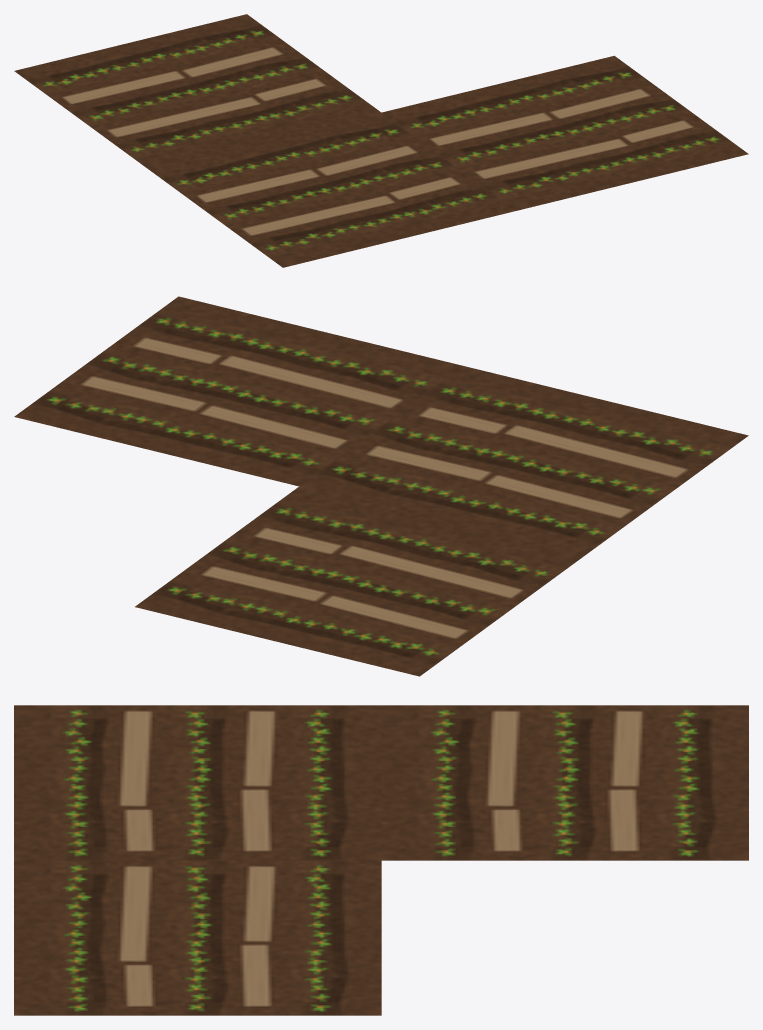
Rendered from example-L_LOD2.glb.
3 views of the same model, one above another, from view 1: azimuth 30°, elevation 25°; view 2: azimuth 150°, elevation 25°; view 3: azimuth 270°, elevation 25° (orthographic). The views are drawn at different scales.
Visible parts, largest first — view 1: parcelle_000_LOD2, parcelle_001_LOD2, parcelle_002_LOD2; view 2: parcelle_002_LOD2, parcelle_000_LOD2, parcelle_001_LOD2; view 3: parcelle_000_LOD2, parcelle_001_LOD2, parcelle_002_LOD2.
Boxes of the visible parts, bbox=[...] form: parcelle_000_LOD2: bbox=[149, 112, 515, 267]; parcelle_001_LOD2: bbox=[14, 14, 380, 169]; parcelle_002_LOD2: bbox=[382, 55, 748, 210]; parcelle_002_LOD2: bbox=[14, 296, 463, 486]; parcelle_000_LOD2: bbox=[299, 366, 748, 555]; parcelle_001_LOD2: bbox=[135, 486, 583, 676]; parcelle_000_LOD2: bbox=[14, 705, 381, 860]; parcelle_001_LOD2: bbox=[381, 705, 748, 860]; parcelle_002_LOD2: bbox=[14, 860, 381, 1015].
Bounding box in the file's own units: 5 × 0 × 5.
Materials: 1 (1 with a texture image).
